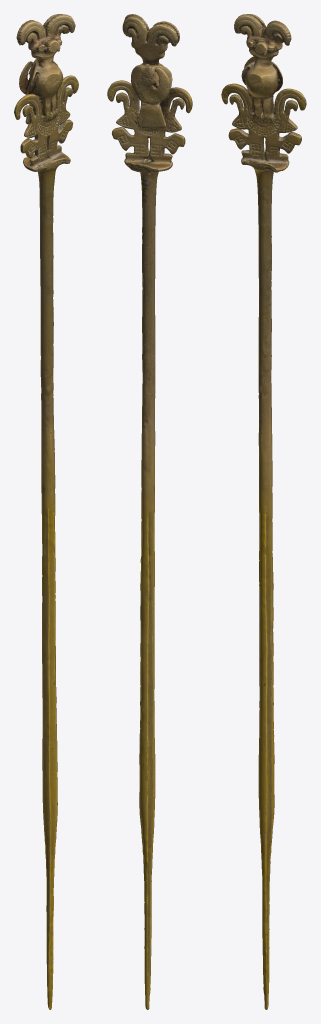
Rendered from pin_quimbaya_color.glb.
The picture shows the model from 3 angles, left to right: view 1: azimuth 30°, elevation 25°; view 2: azimuth 150°, elevation 25°; view 3: azimuth 330°, elevation 25°; orthographic projection.
Visible parts, largest first — view 1: pin_quimbaya; view 2: pin_quimbaya; view 3: pin_quimbaya.
Boxes of the visible parts, x1,y1,x2,y2 form: pin_quimbaya: (14,14,78,1009); pin_quimbaya: (107,14,192,1009); pin_quimbaya: (221,14,306,1009).
Size of the model in its own units: 0.031 by 0.3952 by 0.0117.
1 material, 1 textured.
